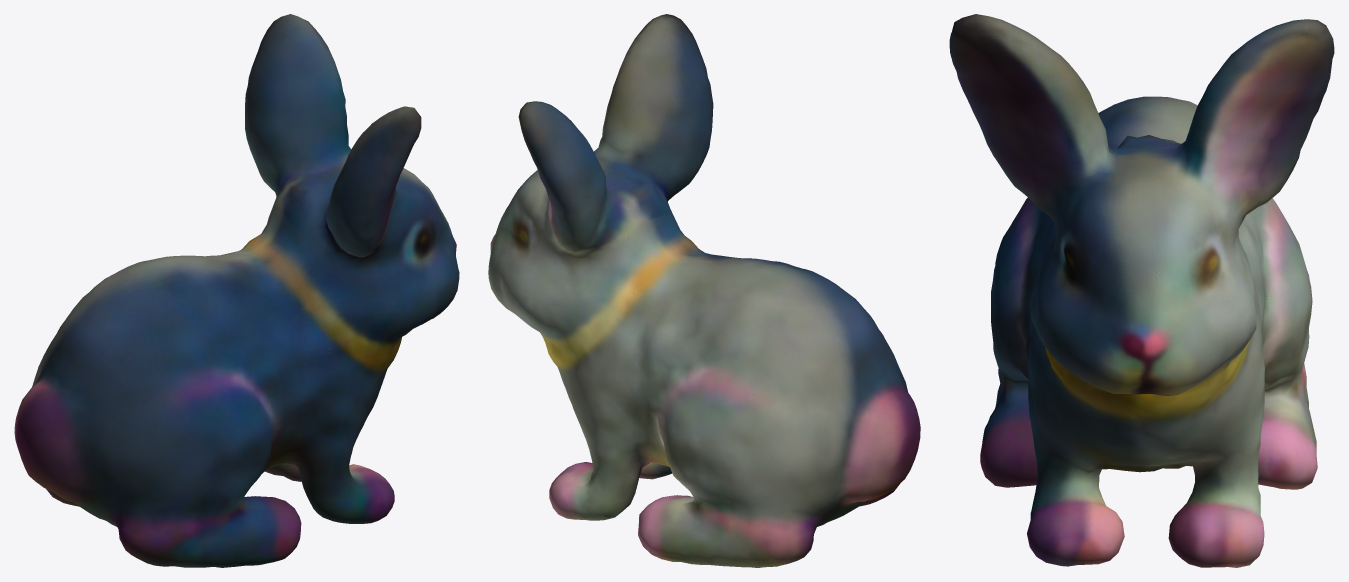
Rendered from Create_rabbit_with_Close_set_eyes_with_a_serious_expression__0614155813_preview.obj.
3 renders of one model, left to right at view 1: azimuth 30°, elevation 25°; view 2: azimuth 150°, elevation 25°; view 3: azimuth 270°, elevation 25°, orthographic. The views are drawn at different scales.
Parts seen in each view (by area): view 1: Mesh1; view 2: Mesh1; view 3: Mesh1.
Part boxes in pixels (x1,y1,x2,y2): Mesh1: [14, 14, 459, 567]; Mesh1: [488, 14, 920, 567]; Mesh1: [949, 14, 1334, 567].
Bounding box in the file's own units: 1.2 × 1.15 × 0.7274.
1 material, 1 textured.
